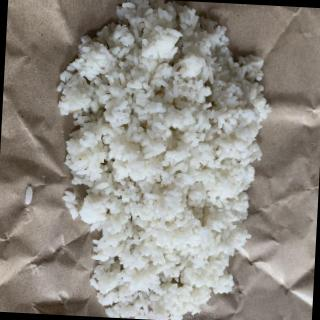Nasi: (50, 1, 276, 320)
